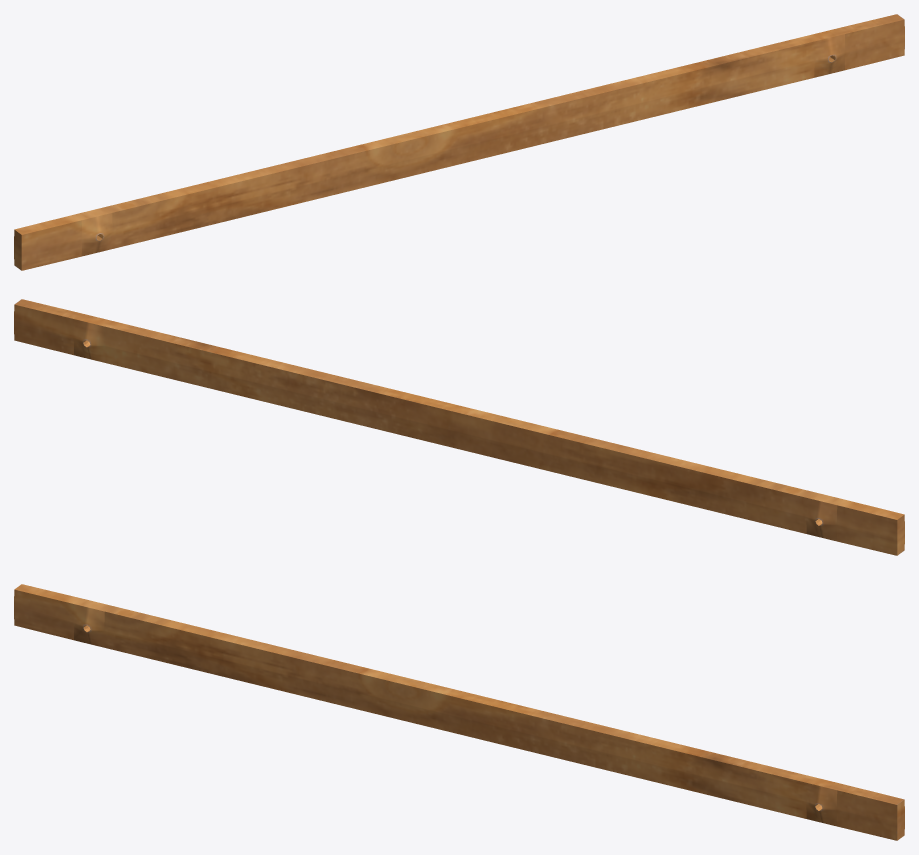
The model's file is Electrical_consturction_woodloghole_10.fbx.
The picture shows the model from 3 angles, top to bottom: view 1: azimuth 30°, elevation 25°; view 2: azimuth 150°, elevation 25°; view 3: azimuth 330°, elevation 25°; orthographic projection.
Parts seen in each view (by area): view 1: LMETB_woodlog_hole_10_geo; view 2: LMETB_woodlog_hole_10_geo; view 3: LMETB_woodlog_hole_10_geo.
Part boxes in pixels (x1=…): LMETB_woodlog_hole_10_geo: x1=14, y1=14, x2=904, y2=270; LMETB_woodlog_hole_10_geo: x1=14, y1=299, x2=904, y2=555; LMETB_woodlog_hole_10_geo: x1=14, y1=584, x2=904, y2=840.
Bounding box in the file's own units: 85.86 × 3.37 × 2.24.
1 material, 1 textured.
